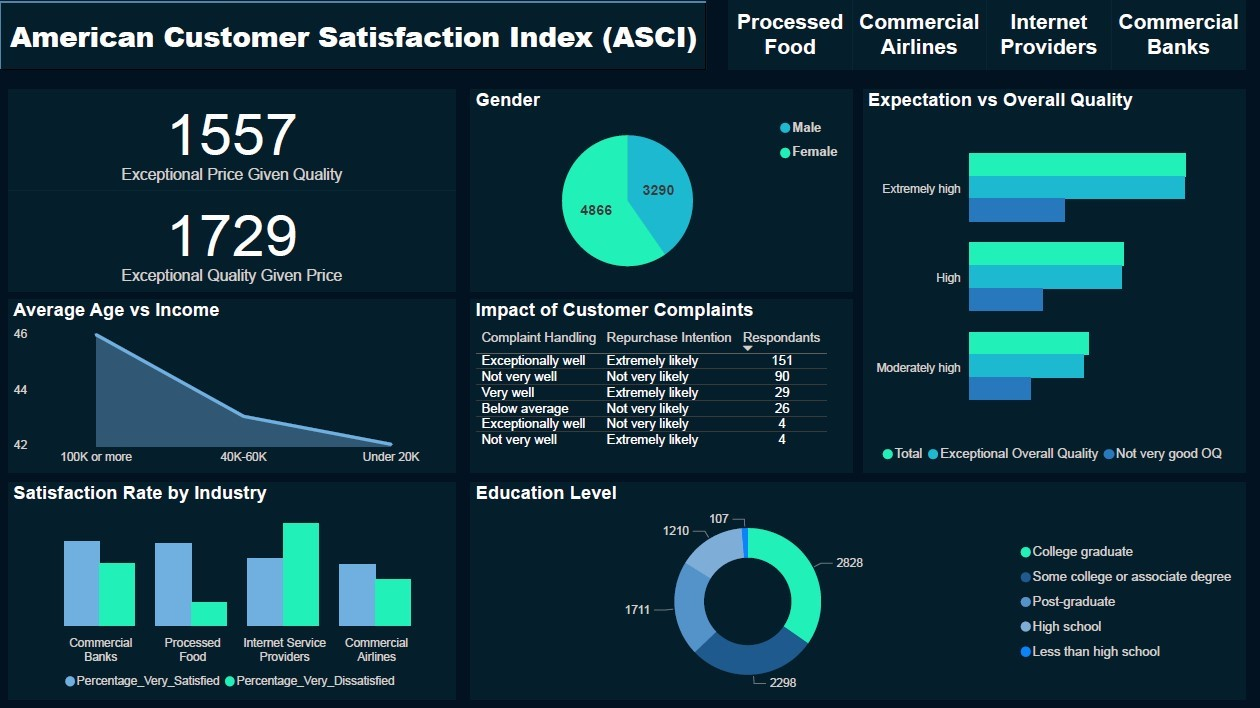

This screenshot's page, from the dashboard's own definition file:
{"tool":"powerbi","page":{"name":"Página 1","canvas":[1280,720],"ordinal":0},"visuals":[{"type":"pieChart","title":"Gender","fields":{"Category":["Data.GENDER"],"Y":["CountNonNull(Data.GENDER)"]},"box":[478.8,90,387.5,205],"z":0},{"type":"shape","box":[0,0,718.1,69.9],"z":2000},{"type":"areaChart","title":"Average Age vs Income","fields":{"Category":["AvgAgeByIncome.INCOME"],"Y":["Sum(AvgAgeByIncome.AvgAge)"]},"box":[10,302.5,452.5,176.2],"z":3000},{"type":"tableEx","title":"Impact of Customer Complaints","fields":{"Values":["Data.HANDLE","Data.REPUR","Data.Repurch_Selected"]},"box":[478.8,302.5,387.5,176.2],"z":4000},{"type":"clusteredBarChart","title":"Expectation vs Overall Quality","fields":{"Category":["Data.OVERALLX"],"Y":["Data.Recuento","Data.Recuento Exceptional","Data.Recuento Not very good"]},"box":[877.1,90.3,388,389.2],"z":5000},{"type":"actionButton","box":[1128.9,0,136.1,69.9],"z":6000},{"type":"actionButton","box":[1002.4,0,126.5,69.9],"z":7000},{"type":"actionButton","box":[866.3,0,136.1,69.9],"z":8000},{"type":"actionButton","box":[739.8,0,126.5,69.9],"z":9000},{"type":"donutChart","title":"Education Level","fields":{"Category":["Data.EDUCAT"],"Y":["CountNonNull(Data.EDUCAT)"]},"box":[478.8,488.8,786.2,220],"z":10001},{"type":"card","fields":{"Values":["Data.Exceptional Price Given Quality"]},"box":[10,90,452.5,102.5],"z":10002},{"type":"card","fields":{"Values":["Data.Very Good Exceptional Quality Given Price"]},"box":[10,192.5,452.5,102.5],"z":10003},{"type":"clusteredColumnChart","title":"Satisfaction Rate by Industry","fields":{"Category":["Data.INDUSTRY"],"Y":["Data.Percentage_Very_Satisfied","Data.Percentage_Very_Dissatisfied"]},"box":[10,488.8,452.5,220],"z":10004}]}

Visuals, with their boxes in screenshot pixels (x1, y1, x2, y2), scaled from the page's 1280x720 canvas onto the 1260x708 screenshot:
"Gender" pieChart: [471,88,853,290]
shape: [0,0,707,69]
"Average Age vs Income" areaChart: [10,297,455,471]
"Impact of Customer Complaints" tableEx: [471,297,853,471]
"Expectation vs Overall Quality" clusteredBarChart: [863,89,1245,472]
actionButton: [1111,0,1245,69]
actionButton: [987,0,1111,69]
actionButton: [853,0,987,69]
actionButton: [728,0,853,69]
"Education Level" donutChart: [471,481,1245,697]
card - Data.Exceptional Price Given Quality: [10,88,455,189]
card - Data.Very Good Exceptional Quality Given Price: [10,189,455,290]
"Satisfaction Rate by Industry" clusteredColumnChart: [10,481,455,697]
